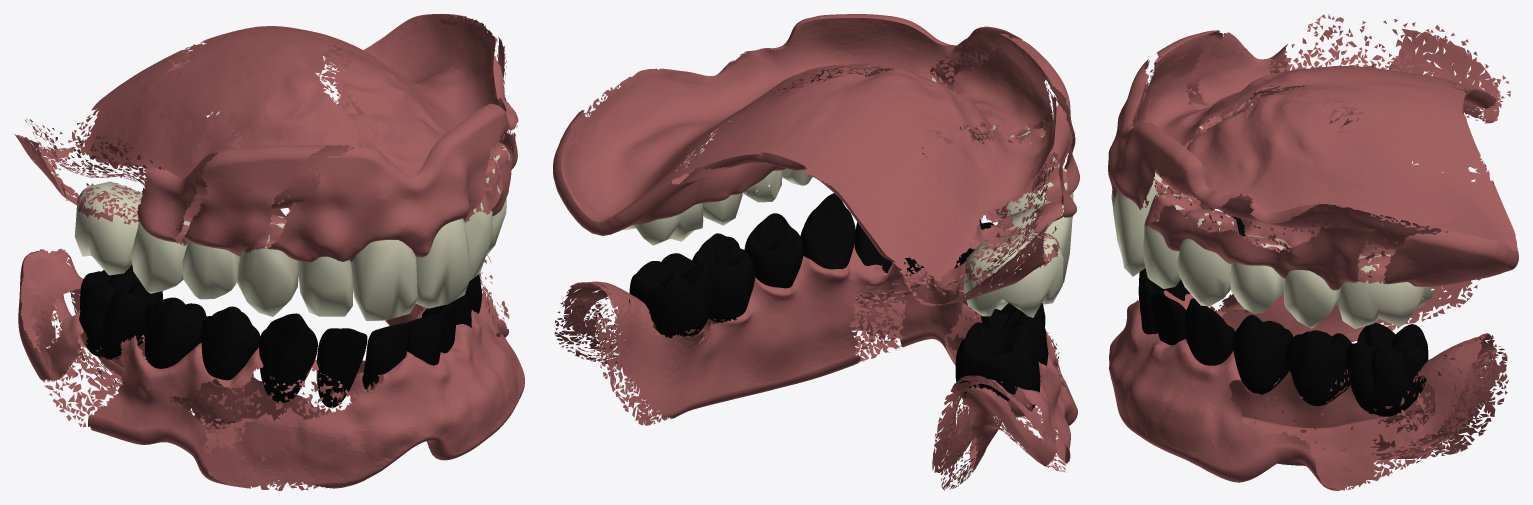
File: denture.glb
3 views of the same model, side by side, from view 1: azimuth 30°, elevation 25°; view 2: azimuth 150°, elevation 25°; view 3: azimuth 270°, elevation 25° (orthographic). The views are drawn at different scales.
Parts seen in each view (by area): view 1: polySurface4_phong4_0.002, polySurface3, polySurface1, polySurface4_phong4_0.004, polySurface2_phong2_0.004, polySurface2_phong2_0.002, polySurface4_phong4_0.005, polySurface4_phong4_0.006, polySurface2_phong2_0.001, polySurface2_phong2_0.003, polySurface4_phong4_0.003, polySurface2_phong2_0.005 (+4 smaller); view 2: polySurface4_phong4_0.002, polySurface4_phong4_0.004, polySurface1, polySurface4_phong4_0.006, polySurface2_phong2_0.001, polySurface4_phong4_0.005, polySurface2_phong2_0.004, polySurface3, polySurface2_phong2_0.002, polySurface4_phong4_0.003, polySurface2, polySurface4_phong4_0.007 (+3 smaller); view 3: polySurface2_phong2_0.001, polySurface1, polySurface4_phong4_0.004, polySurface4_phong4_0.002, polySurface4_phong4_0.005, polySurface3, polySurface2, polySurface4_phong4_0.006, polySurface4, polySurface4_phong4_0.001, polySurface4_phong4_0.007, polySurface4_phong4_0.003 (+4 smaller).
Boxes of the visible parts, box(x1,y1,x2,y2) form: polySurface4_phong4_0.002: box(179, 26, 357, 256); polySurface3: box(74, 146, 511, 320); polySurface1: box(79, 265, 482, 407); polySurface4_phong4_0.004: box(80, 44, 429, 254); polySurface2_phong2_0.004: box(18, 249, 366, 488); polySurface2_phong2_0.002: box(88, 308, 508, 488); polySurface4_phong4_0.005: box(260, 45, 466, 262); polySurface4_phong4_0.006: box(271, 18, 508, 261); polySurface2_phong2_0.001: box(385, 294, 524, 456); polySurface2_phong2_0.003: box(30, 248, 341, 433); polySurface4_phong4_0.003: box(14, 41, 246, 225); polySurface2_phong2_0.005: box(168, 372, 382, 490); polySurface4_phong4_0.002: box(692, 33, 1079, 220); polySurface4_phong4_0.004: box(627, 26, 1076, 281); polySurface1: box(629, 193, 1048, 410); polySurface4_phong4_0.006: box(553, 14, 1040, 232); polySurface2_phong2_0.001: box(614, 243, 917, 418); polySurface4_phong4_0.005: box(583, 15, 1051, 235); polySurface2_phong2_0.004: box(899, 262, 1077, 469); polySurface3: box(623, 76, 1073, 317); polySurface2_phong2_0.002: box(752, 246, 1070, 463); polySurface4_phong4_0.003: box(812, 83, 1060, 306); polySurface2: box(554, 281, 725, 425); polySurface4_phong4_0.007: box(556, 19, 1023, 178); polySurface2_phong2_0.001: box(1114, 316, 1458, 490); polySurface1: box(1138, 216, 1428, 416); polySurface4_phong4_0.004: box(1120, 32, 1510, 226); polySurface4_phong4_0.002: box(1138, 30, 1481, 167); polySurface4_phong4_0.005: box(1108, 82, 1518, 282); polySurface3: box(1111, 103, 1432, 329); polySurface2: box(1249, 333, 1508, 489); polySurface4_phong4_0.006: box(1108, 125, 1518, 286); polySurface4: box(1145, 178, 1374, 290); polySurface4_phong4_0.001: box(1134, 60, 1494, 283); polySurface4_phong4_0.007: box(1131, 151, 1500, 284); polySurface4_phong4_0.003: box(1187, 14, 1510, 123).
Size of the model in its own units: 0.1743 by 0.1273 by 0.1425.
